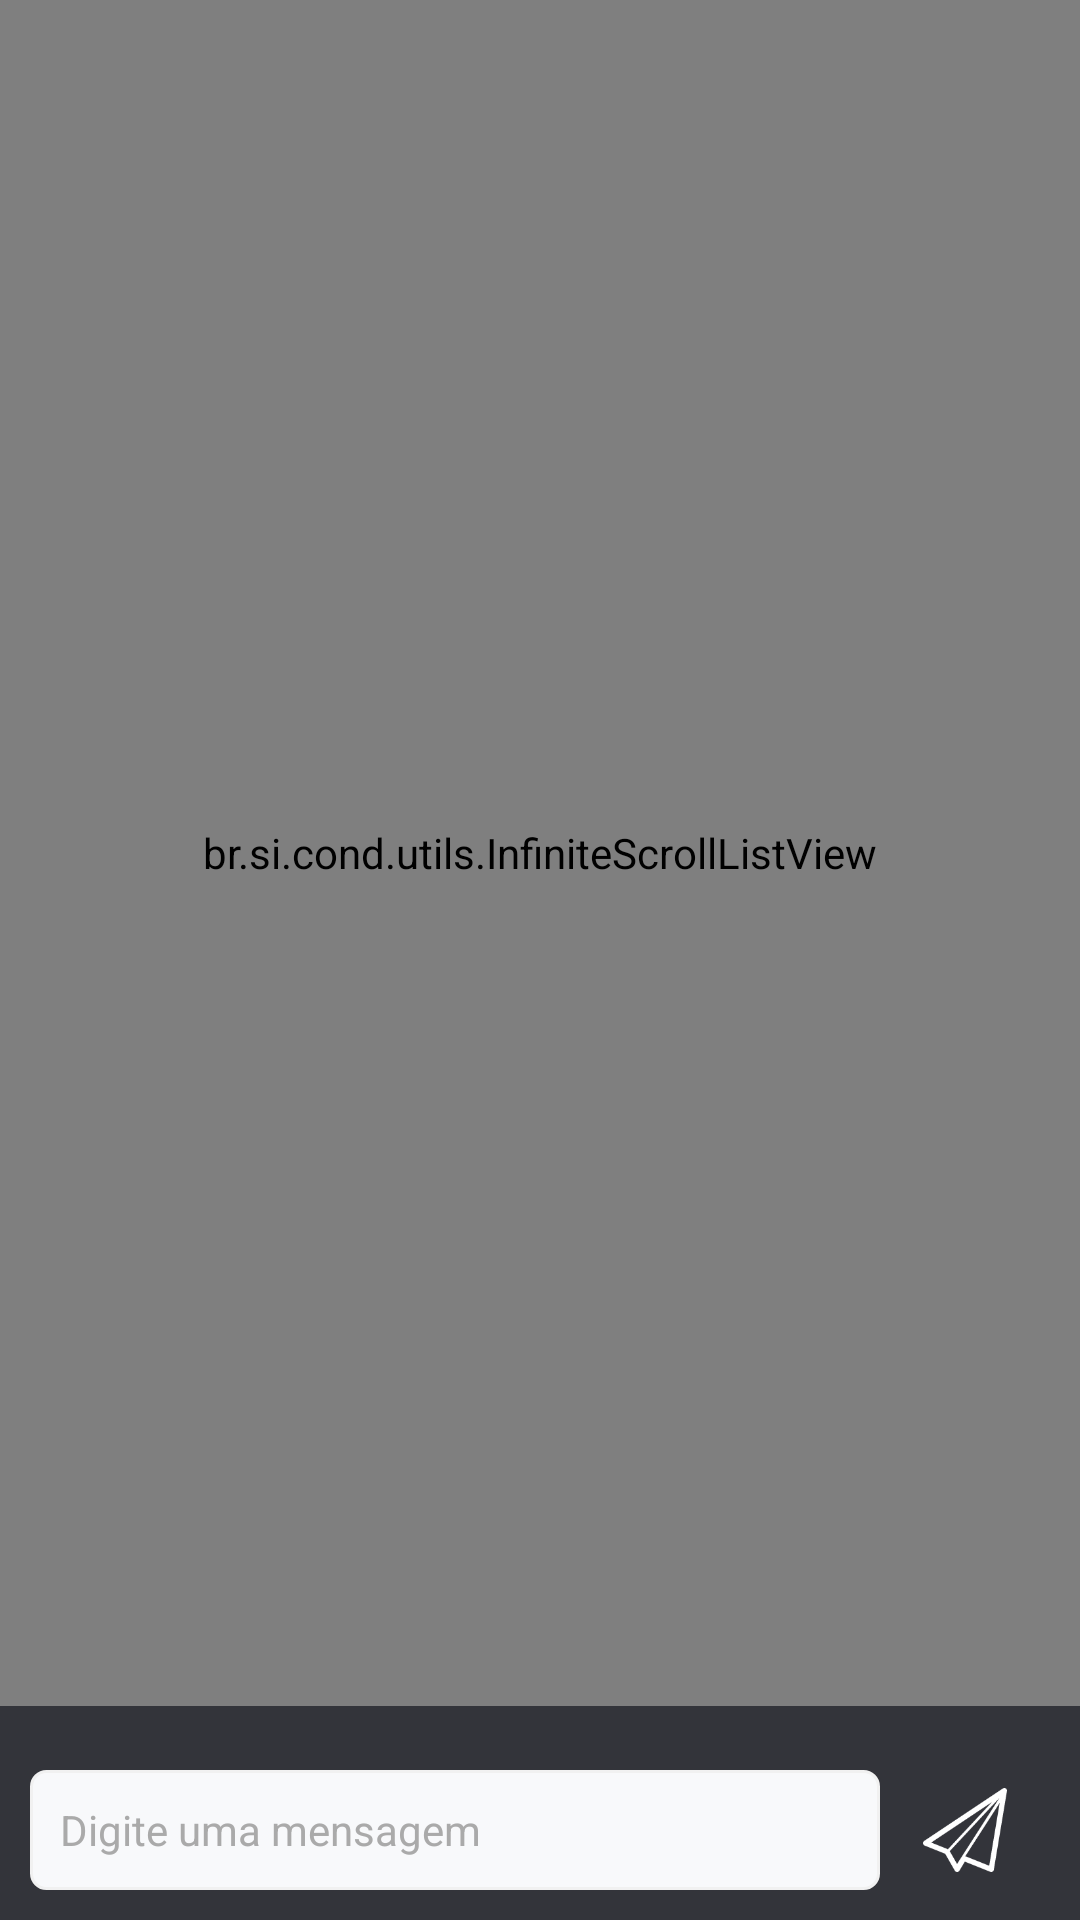

Where icons sit on this 1080px x 1920px app screen, as (x1, y1, x2, y2):
send: (923, 1788, 1007, 1872)
